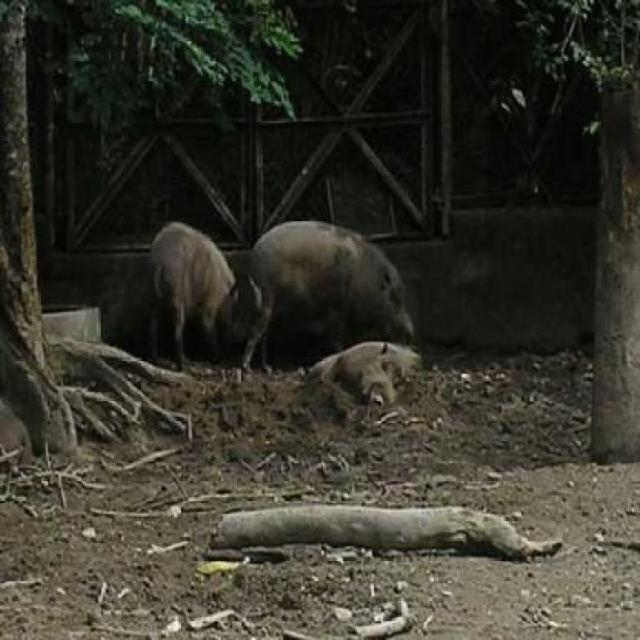Boar: (248, 189, 430, 354), (130, 208, 258, 415), (322, 325, 426, 430)
